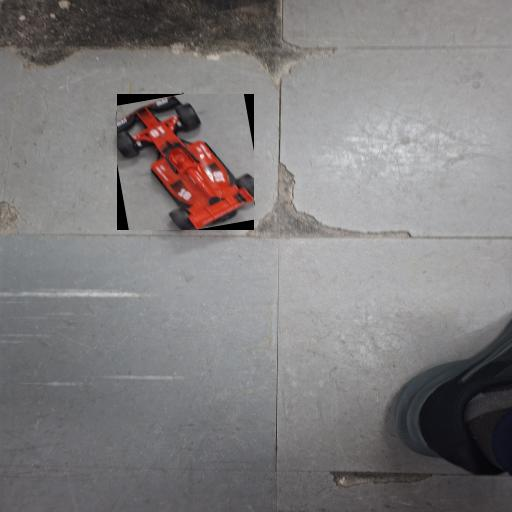carro: (117, 94, 254, 230)
